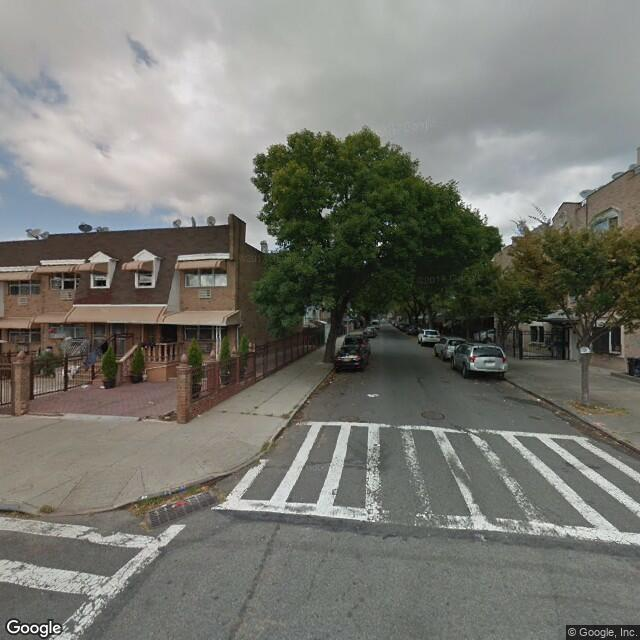litter: (171, 500, 186, 508), (368, 391, 380, 398), (304, 401, 315, 408), (139, 495, 148, 500), (325, 378, 336, 382), (554, 409, 562, 414), (196, 413, 204, 418), (80, 382, 86, 388), (535, 396, 542, 400), (147, 399, 151, 406), (162, 416, 170, 419), (99, 384, 106, 387), (586, 411, 590, 414), (502, 398, 504, 401)
